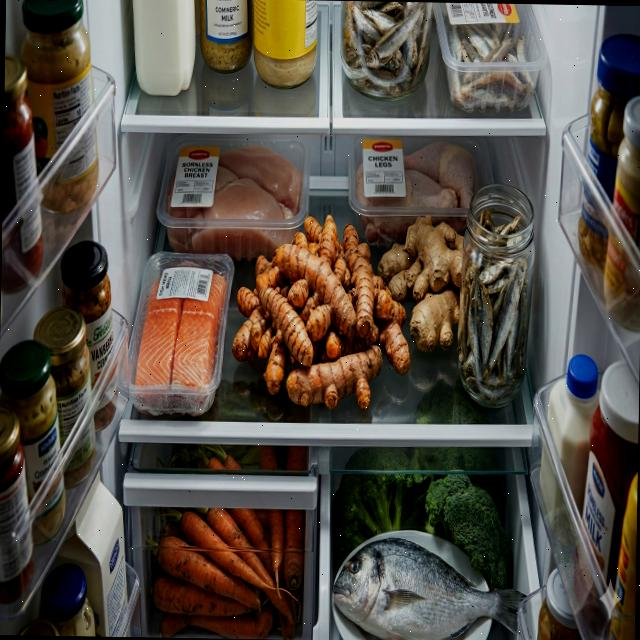anchovies: (458, 210, 530, 406), (440, 13, 536, 114), (339, 0, 432, 100)
brocolli: (423, 470, 512, 590), (332, 444, 414, 564)
carrot: (150, 444, 306, 639)
chicken: (165, 141, 304, 265), (353, 138, 479, 251)
fish: (332, 534, 528, 640), (134, 266, 226, 406)
ginger: (376, 217, 464, 356)
turmeric: (231, 211, 412, 411)
